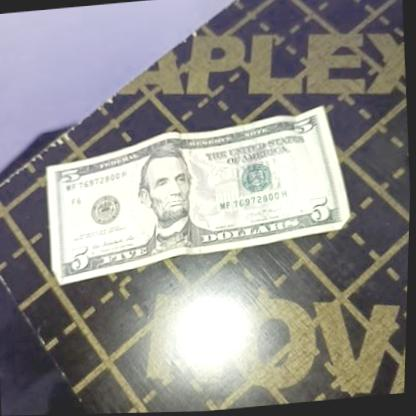five-front: (40, 103, 356, 285)
